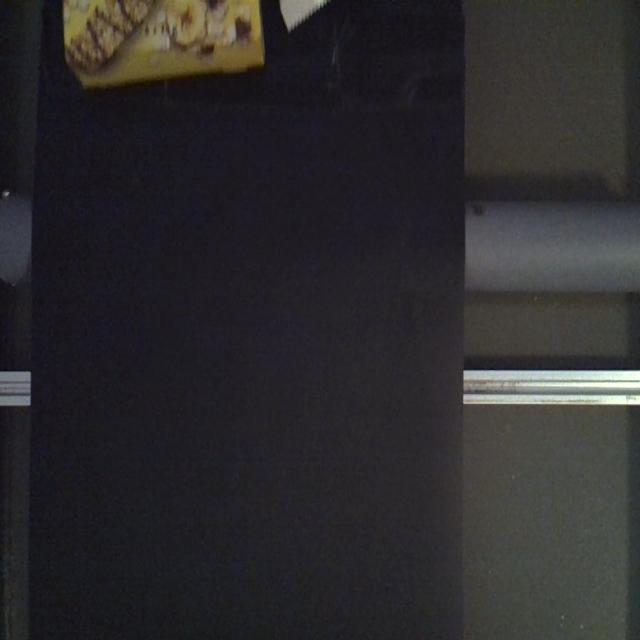carton: (59, 1, 269, 95)
